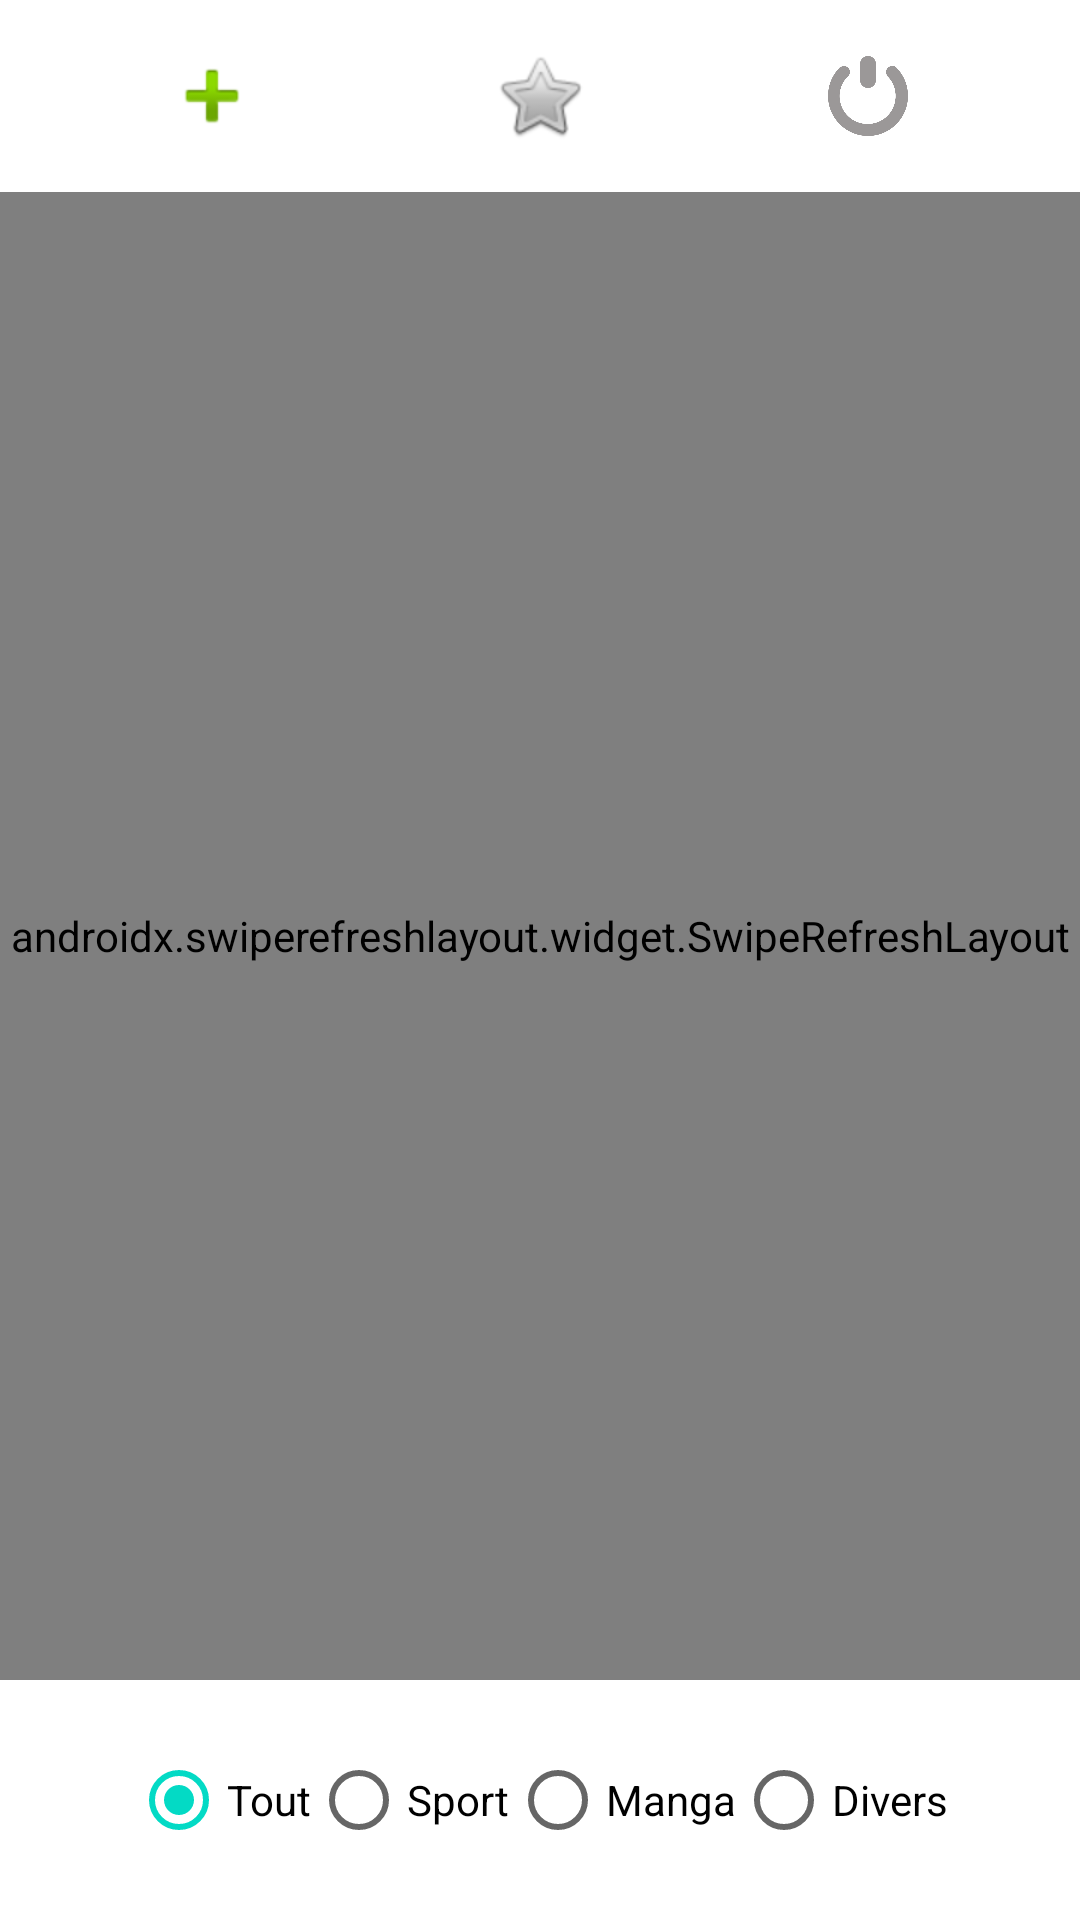

Icon bounding boxes for this 1080x1920 phone screenshot, format (x1,y1,x2,y2):
add new articles: (185,69,239,123)
favori: (501,58,581,136)
